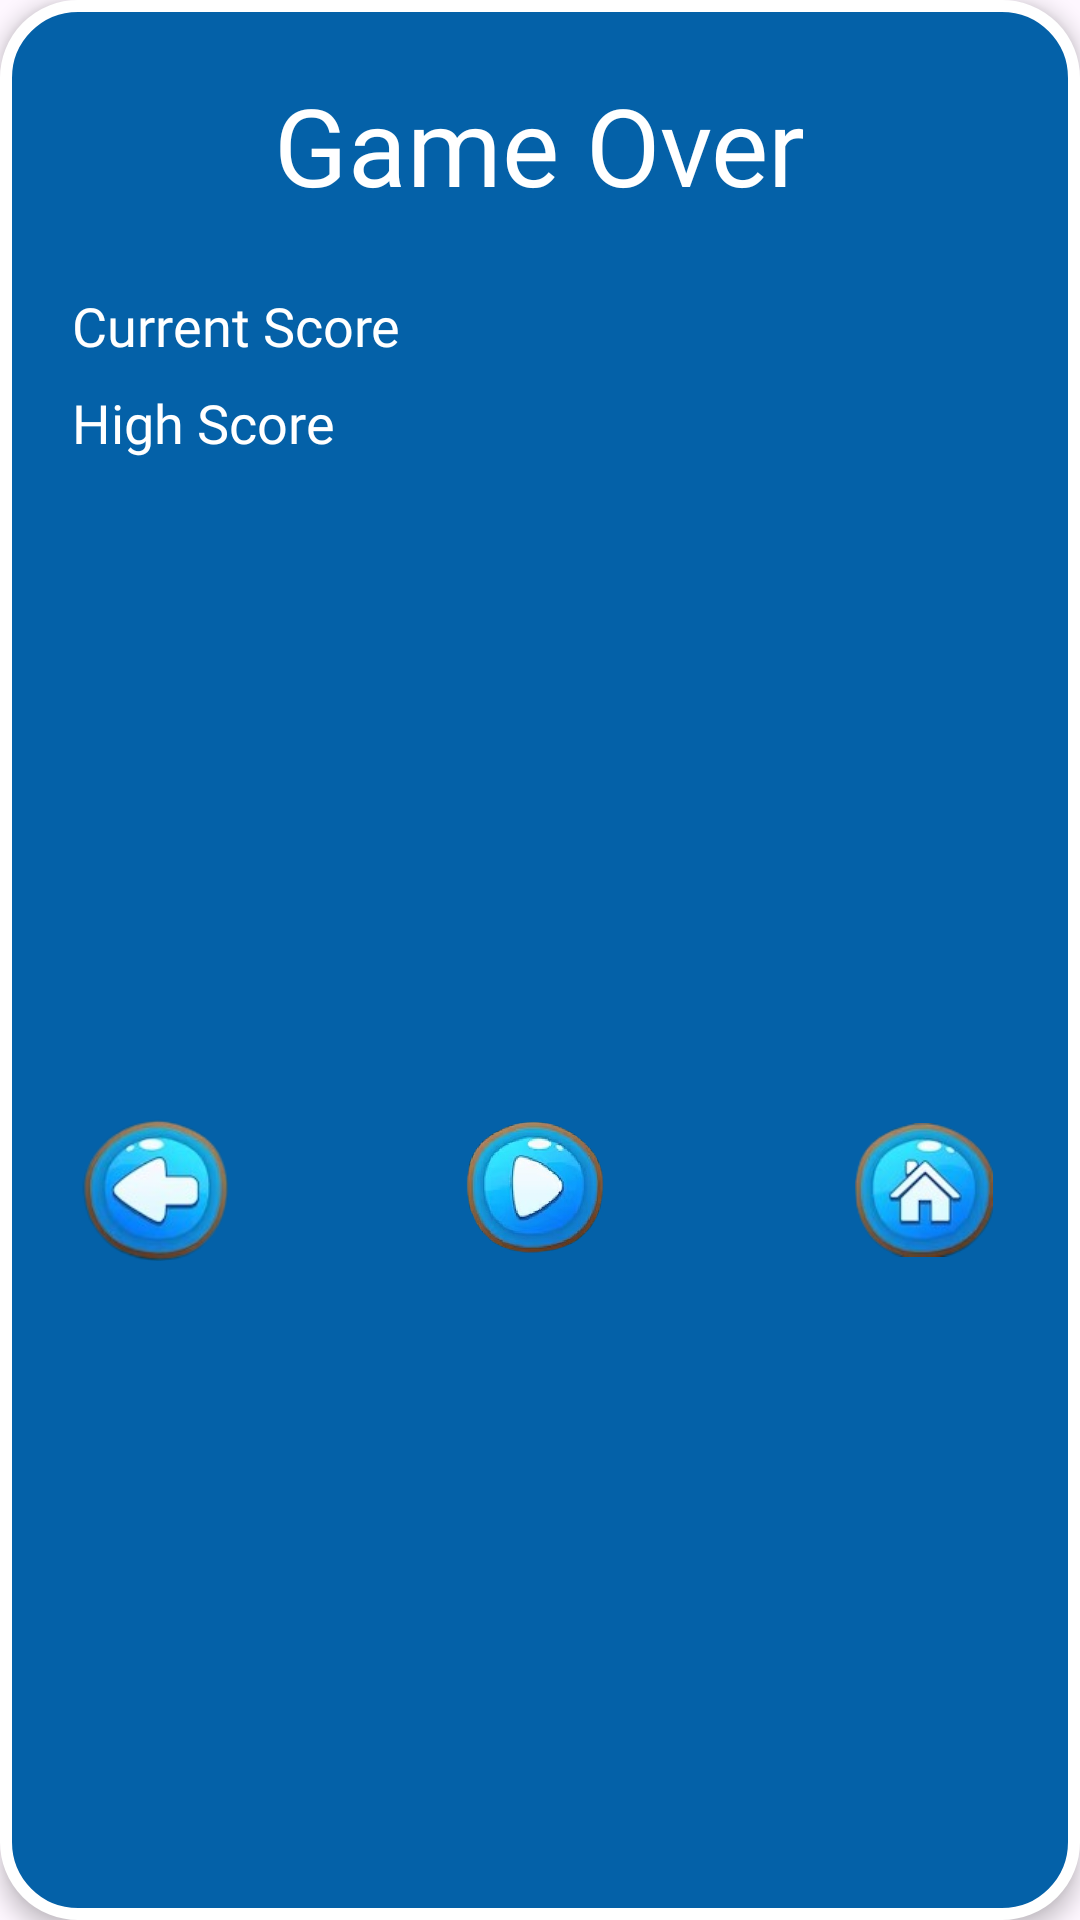

Screen size 1080px x 1920px. Icon name, then its center in pixels as [x,y]:
home: [924,1190]
play: [535,1187]
